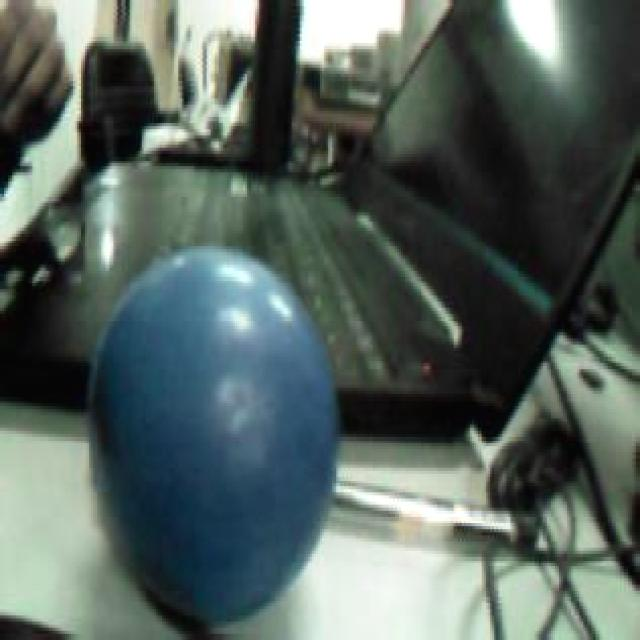BallPurple: (90, 246, 338, 619)
